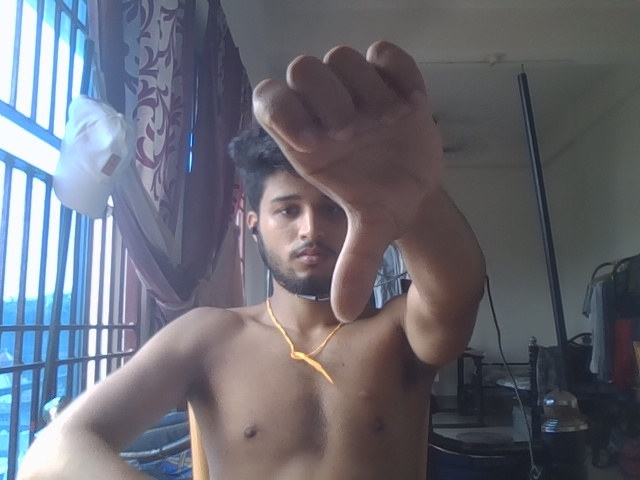Loser: (249, 37, 450, 329)
